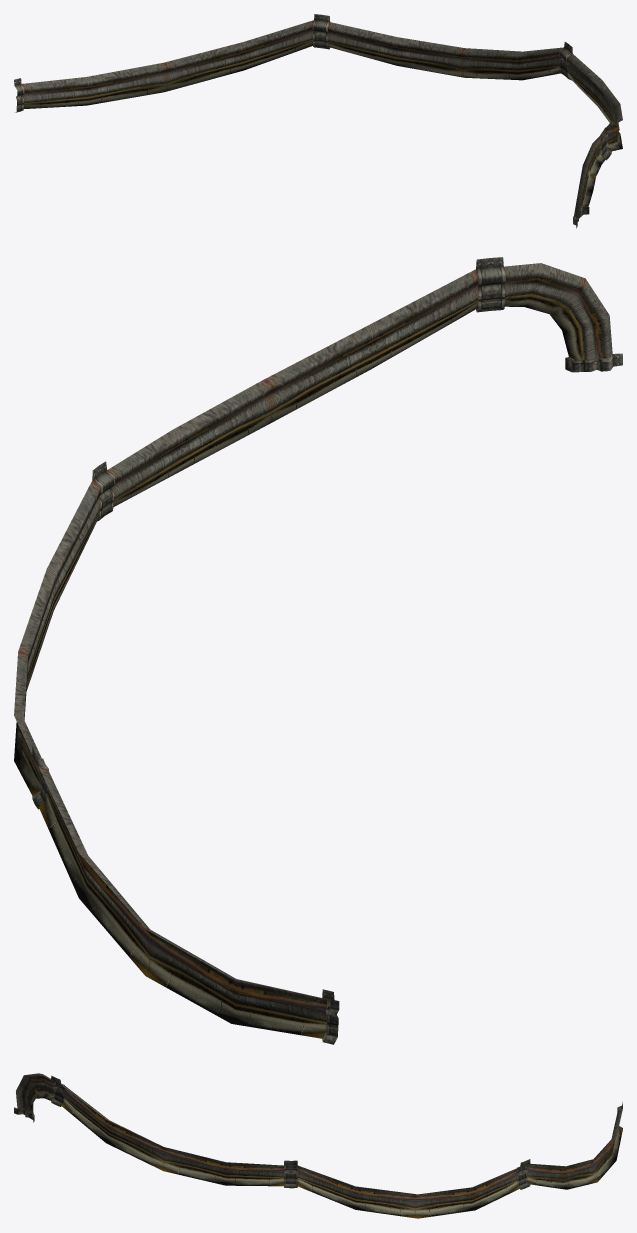
Rendered from M12_SidePipes_N.glb.
The picture shows the model from 3 angles, top to bottom: view 1: azimuth 30°, elevation 25°; view 2: azimuth 150°, elevation 25°; view 3: azimuth 270°, elevation 25°; orthographic projection. The views are drawn at different scales.
Visible parts, largest first — view 1: M12_SIDEPIPES_N; view 2: M12_SIDEPIPES_N; view 3: M12_SIDEPIPES_N.
Part boxes in pixels (x1,y1,x2,y2): M12_SIDEPIPES_N: (14, 14, 622, 228); M12_SIDEPIPES_N: (14, 257, 622, 1044); M12_SIDEPIPES_N: (14, 1073, 622, 1218).
Size of the model in its own units: 7 by 3.6 by 12.83.
1 material, 1 textured.
